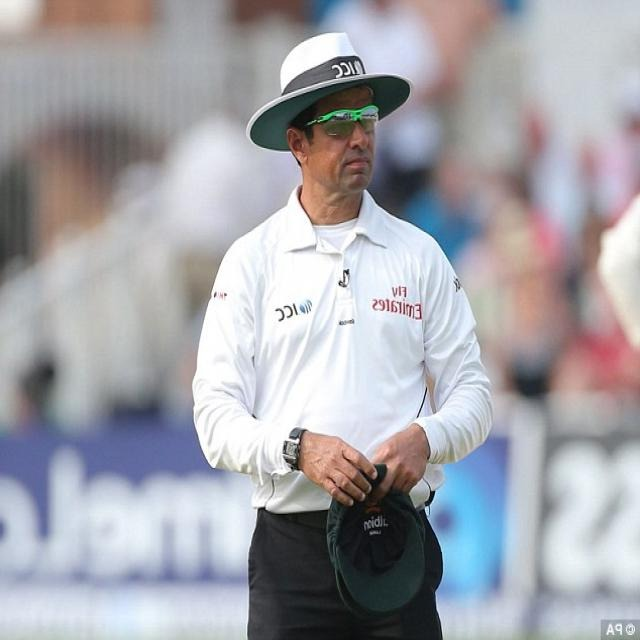No_Action: (184, 16, 502, 640)
